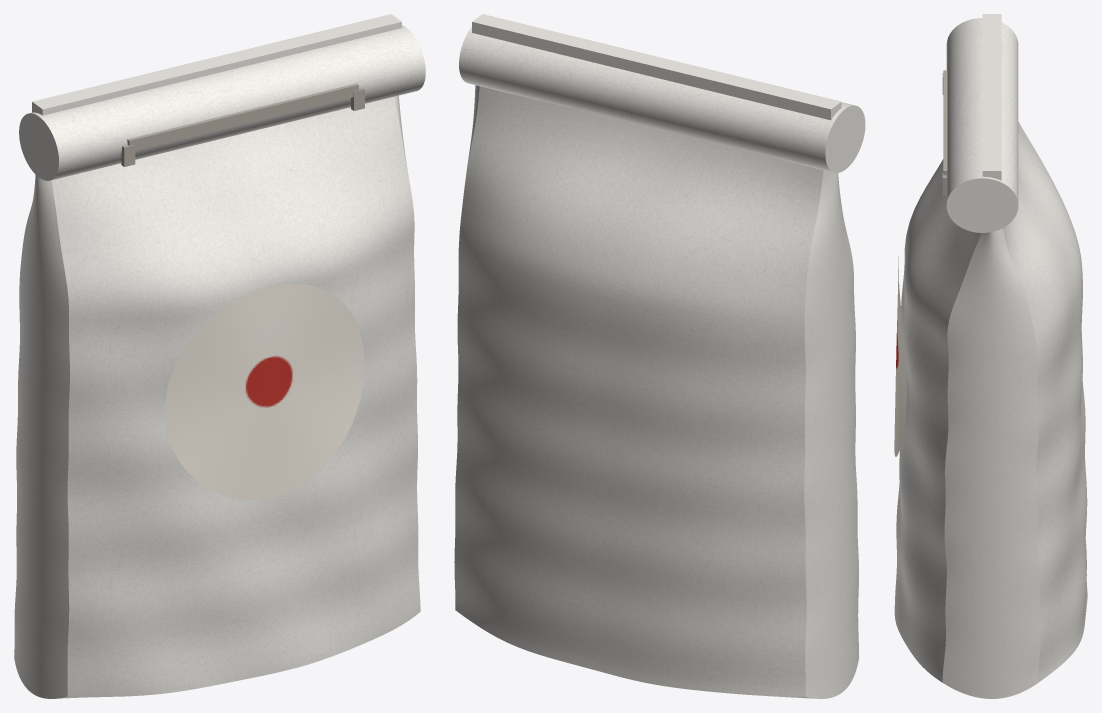
Rendered from bag.glb.
3 views of the same model, side by side, from view 1: azimuth 30°, elevation 25°; view 2: azimuth 150°, elevation 25°; view 3: azimuth 270°, elevation 25° (orthographic). The views are drawn at different scales.
Size of the model in its own units: 1 by 1.51 by 0.504.
Materials: 3 (2 with a texture image).
